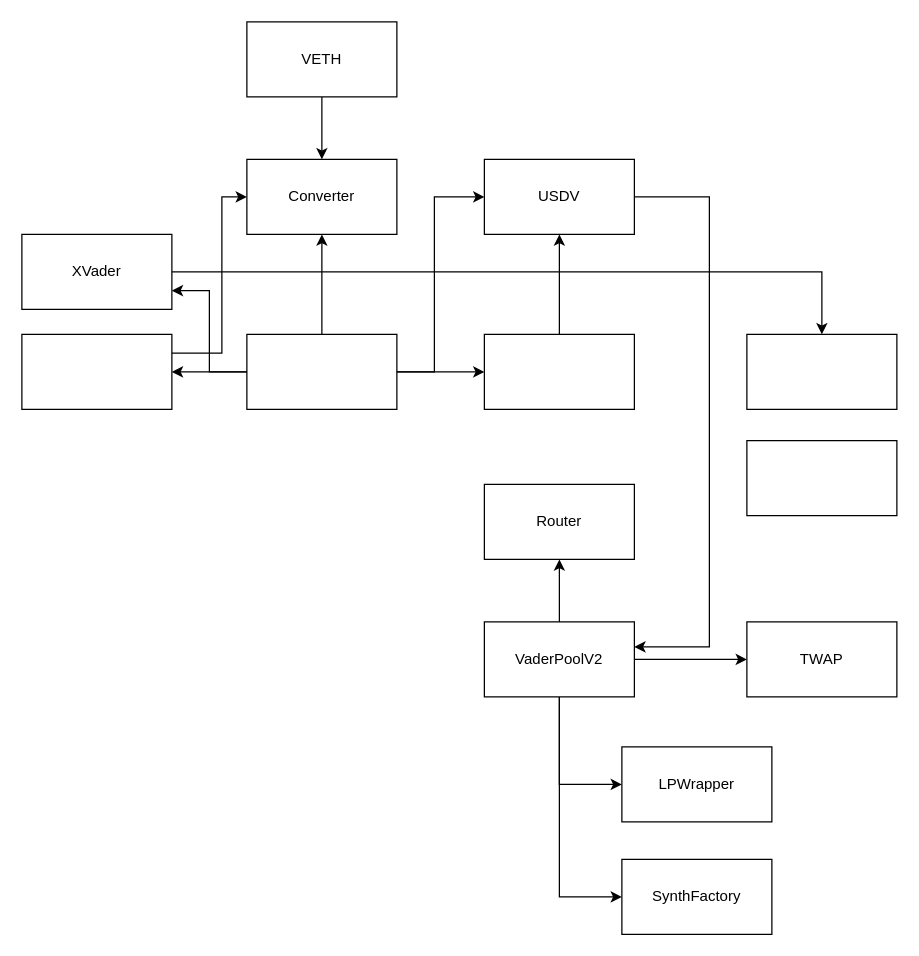
The diagram is 919 pixels wide and 956 high, and some of its shapes have lost their labels. Each missing label, with the centre of its shape:
GovernorAlpha: (821,371)
LinearVesting: (96,371)
Reserve: (558,371)
Timelock: (821,477)
Vader: (321,371)
